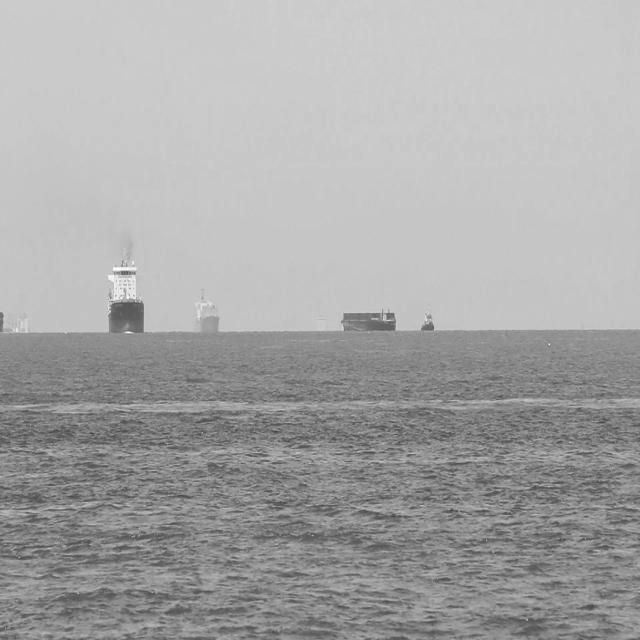ship: (104, 244, 146, 340), (190, 284, 222, 340), (339, 306, 397, 334), (416, 304, 436, 336)
